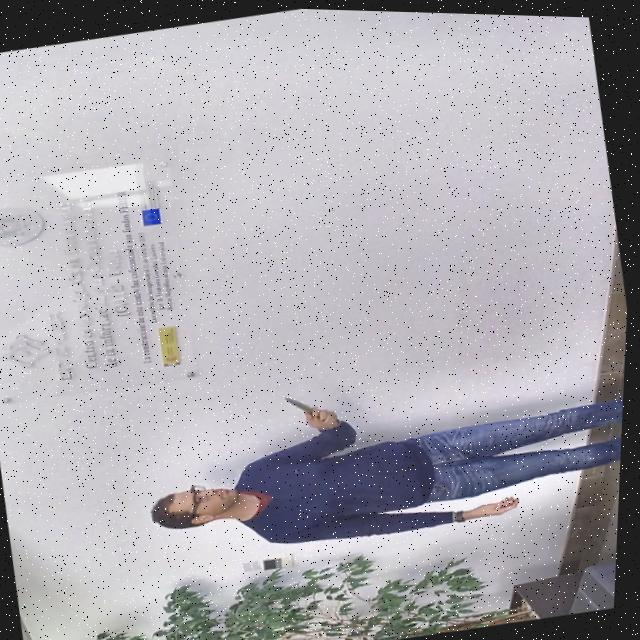knife: (283, 382, 324, 415)
